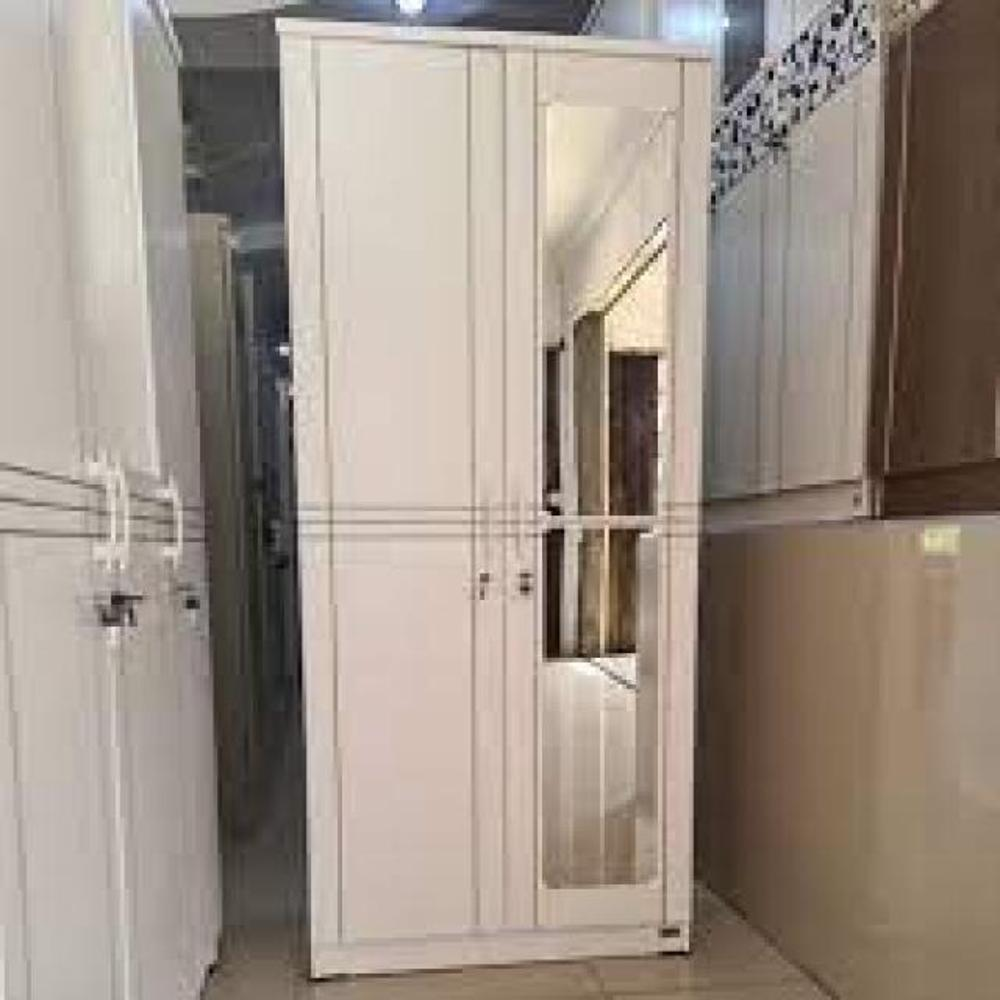cabinet: (281, 16, 719, 985)
